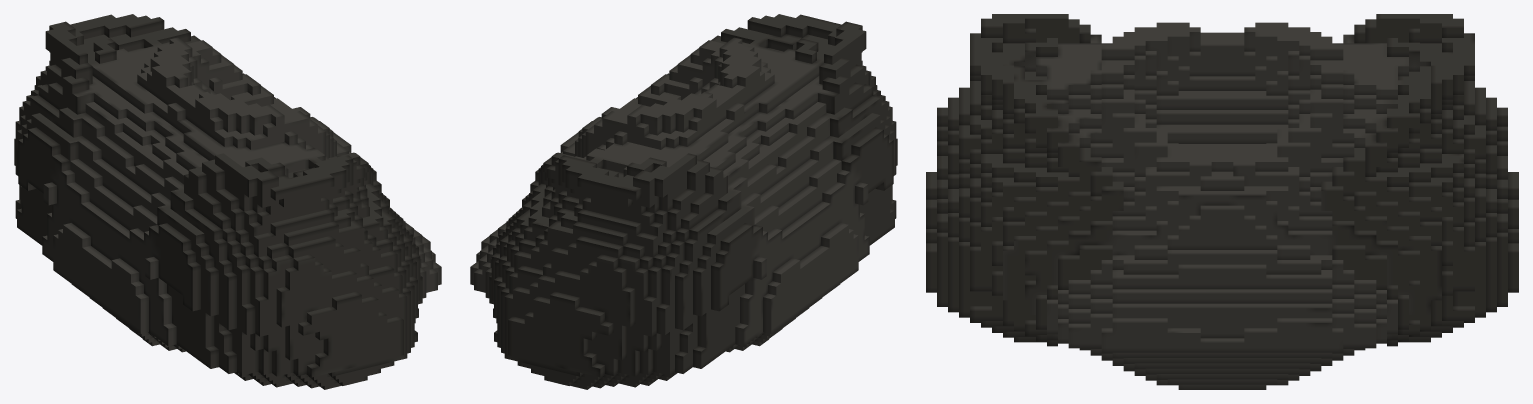
File: Armor_Milan_F.obj
3 views of the same model, side by side, from view 1: azimuth 30°, elevation 25°; view 2: azimuth 150°, elevation 25°; view 3: azimuth 270°, elevation 25° (orthographic). The views are drawn at different scales.
Parts seen in each view (by area): view 1: Armor_Milan_F; view 2: Armor_Milan_F; view 3: Armor_Milan_F.
Boxes of the visible parts, x1,y1,x2,y2 form: Armor_Milan_F: (14, 14, 441, 389); Armor_Milan_F: (470, 14, 897, 389); Armor_Milan_F: (926, 14, 1518, 389).
Bounding box in the file's own units: 34 × 29 × 54.
